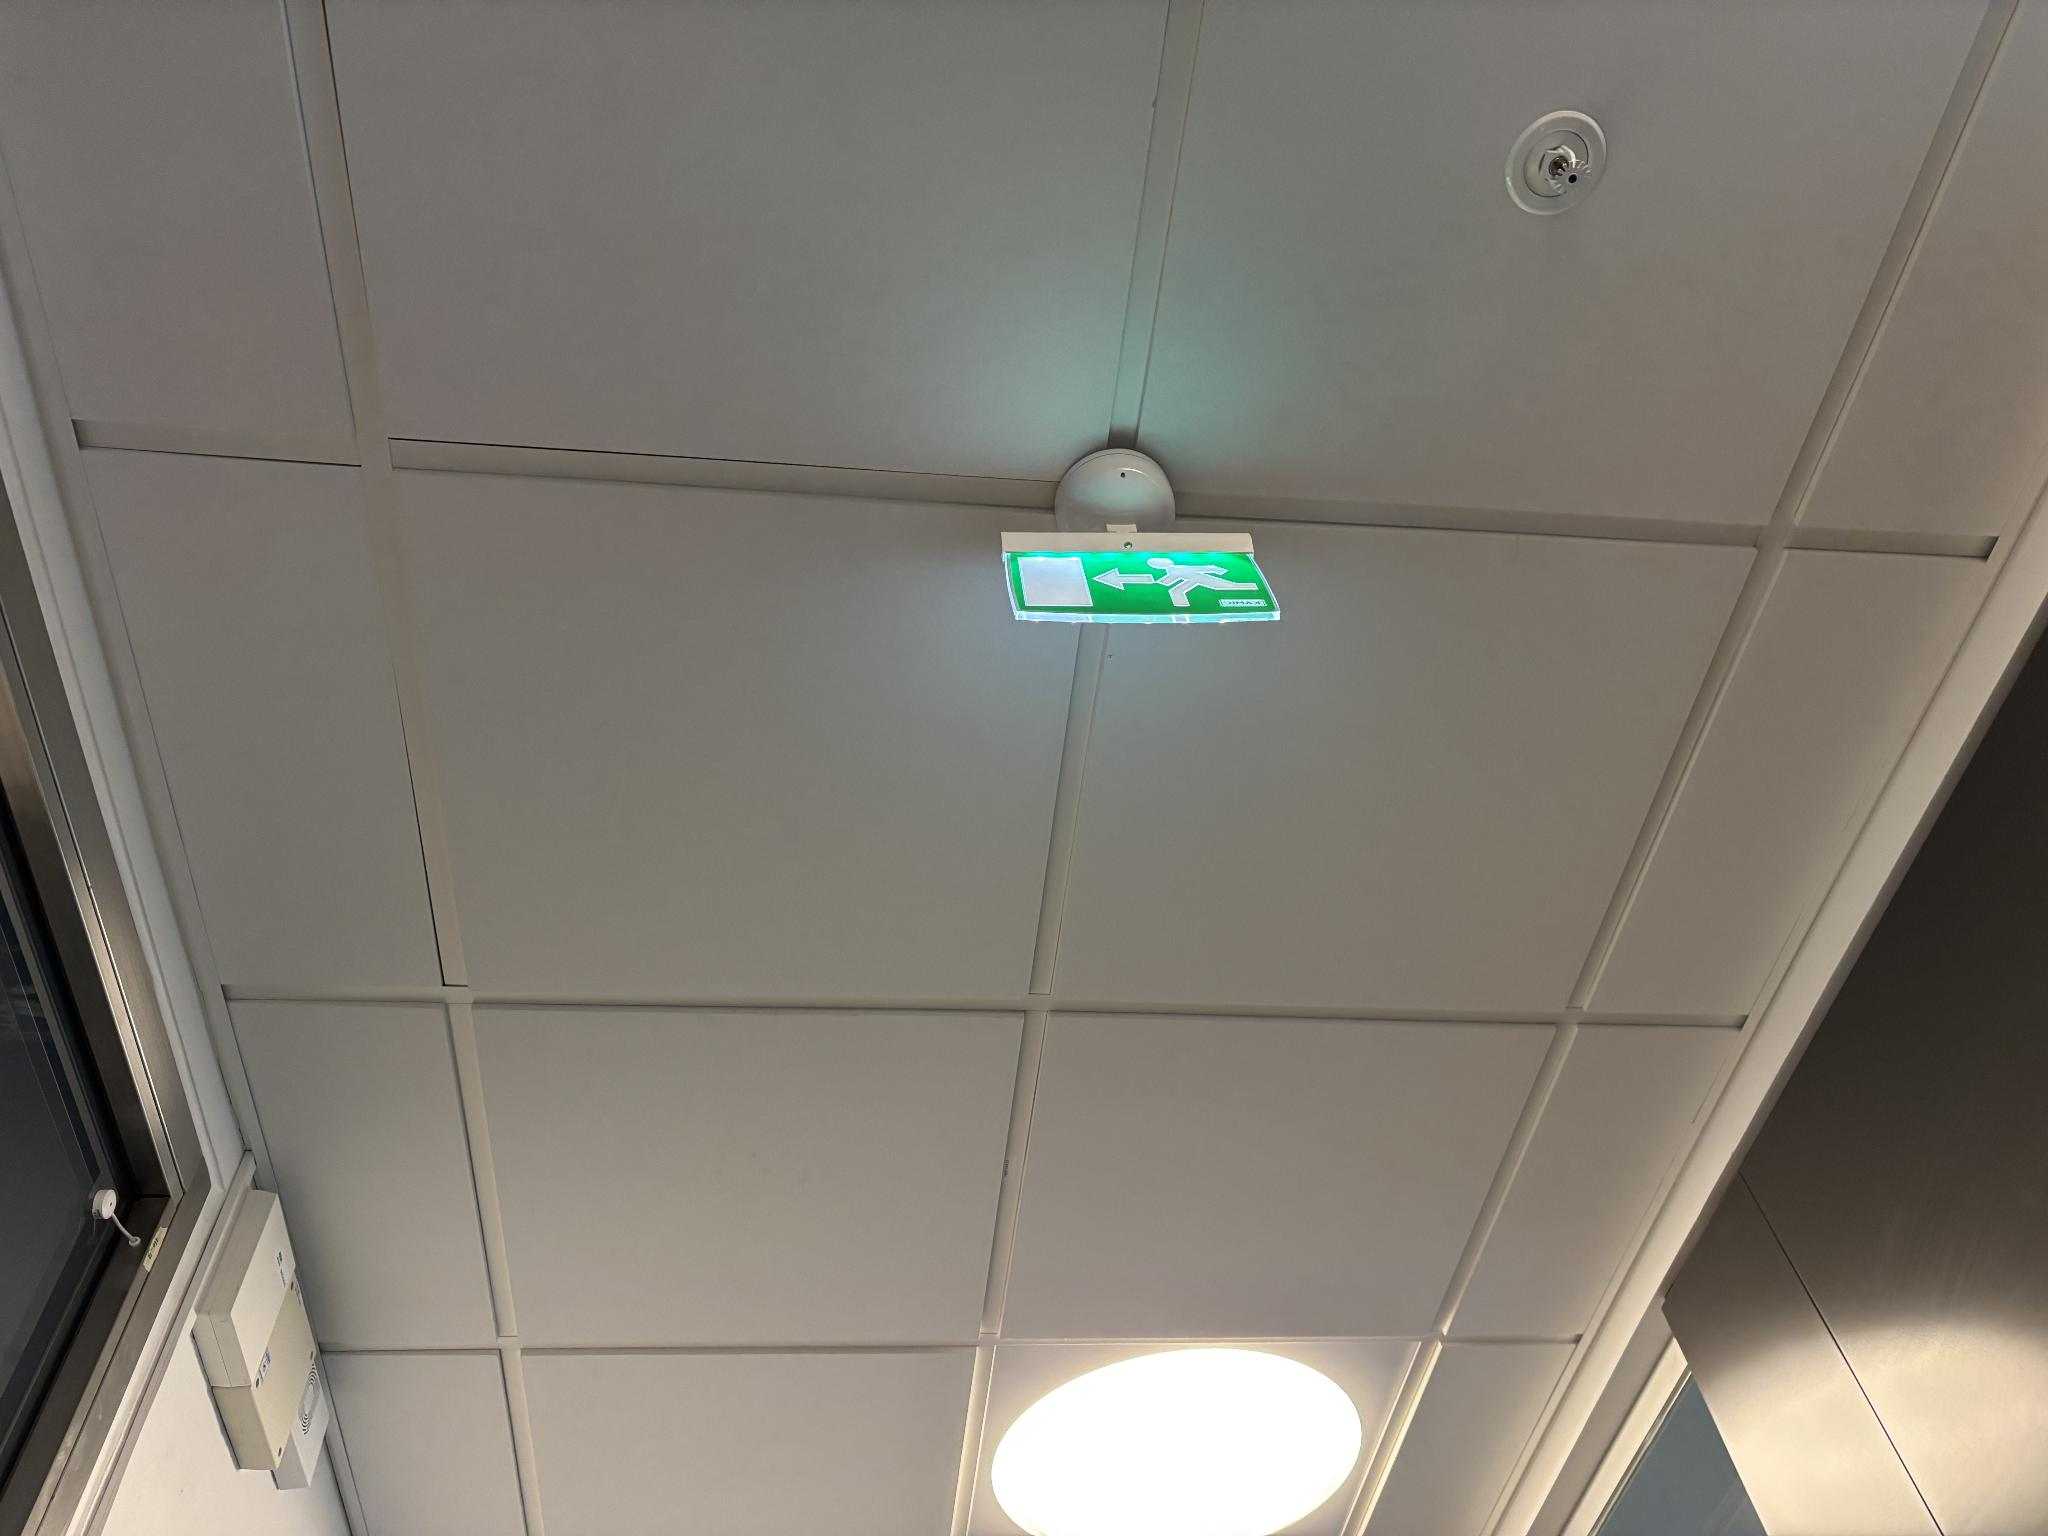exit_sign: (1008, 549, 1290, 631)
